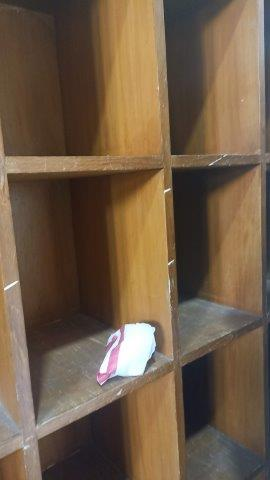plastik: (95, 322, 157, 386)
